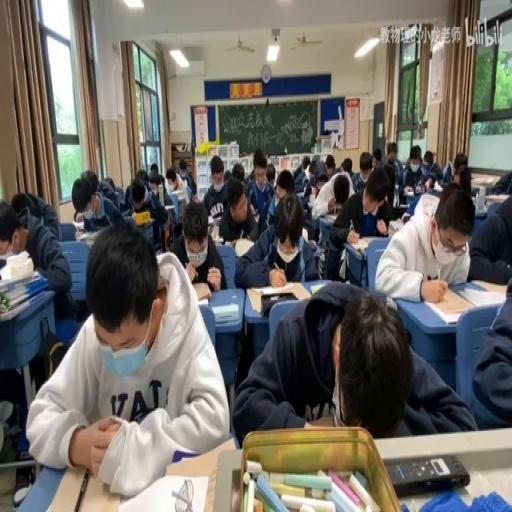calculator: (118, 471, 208, 509), (246, 280, 310, 313), (210, 302, 238, 324), (350, 236, 380, 253), (233, 236, 254, 258), (191, 280, 211, 300), (74, 228, 100, 243), (386, 218, 402, 234), (208, 222, 220, 242), (485, 192, 507, 202), (178, 196, 186, 219), (310, 283, 326, 294), (322, 213, 338, 222), (71, 219, 83, 230), (431, 184, 443, 194), (206, 215, 216, 226), (298, 189, 310, 198), (403, 185, 414, 193), (252, 213, 259, 225), (301, 226, 307, 239), (398, 202, 408, 209), (164, 204, 174, 210)
paper: (233, 281, 472, 441), (0, 189, 73, 475), (376, 179, 474, 300), (232, 190, 318, 286), (471, 266, 512, 429), (167, 199, 224, 293), (467, 180, 512, 286), (73, 170, 129, 232), (126, 176, 169, 250), (310, 165, 352, 236), (202, 154, 230, 220), (401, 145, 430, 199), (440, 149, 470, 189), (382, 142, 404, 189), (350, 149, 373, 192), (273, 166, 295, 209), (176, 156, 195, 195), (291, 156, 310, 194), (486, 169, 512, 195), (10, 192, 32, 222), (0, 215, 19, 247), (264, 162, 275, 189), (314, 160, 326, 184), (230, 160, 244, 180), (166, 169, 178, 192), (324, 154, 334, 176), (372, 145, 382, 166), (136, 168, 149, 183), (341, 156, 351, 174), (103, 175, 115, 189), (423, 151, 434, 165), (148, 164, 158, 179), (308, 162, 316, 179), (224, 169, 230, 181)
person: (386, 452, 470, 496)
